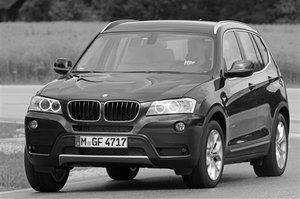car: (24, 20, 291, 194)
